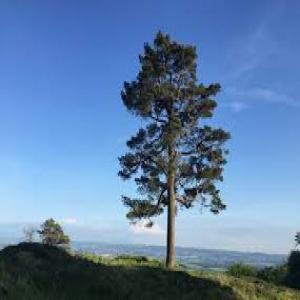Tree: (118, 25, 231, 270)
